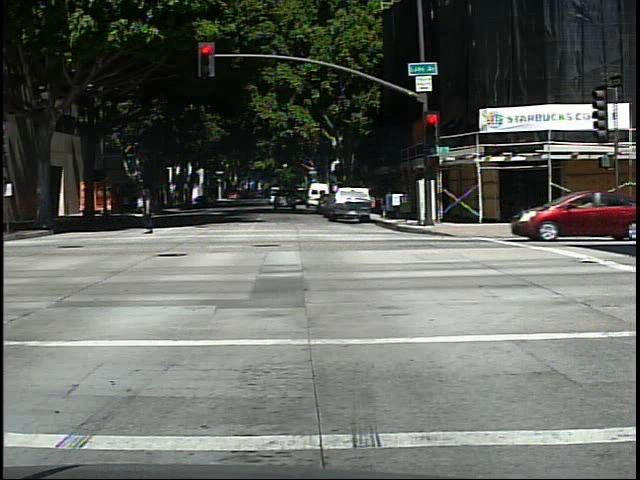person: (133, 183, 168, 235)
